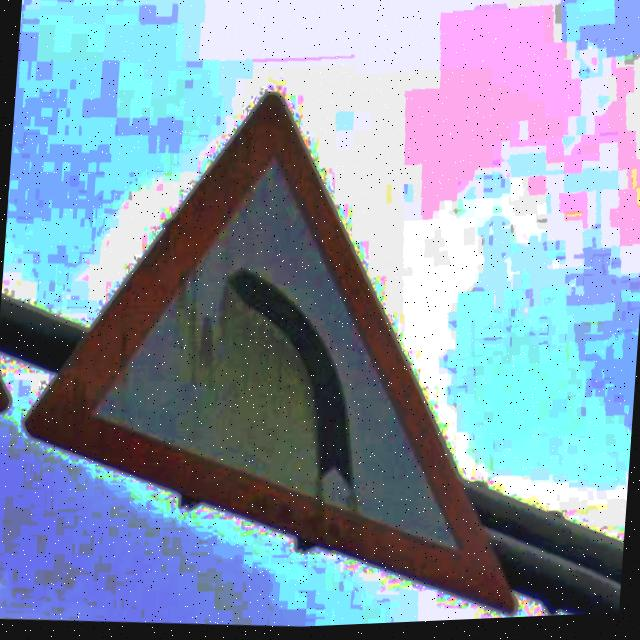leftbend: (24, 95, 517, 621)
